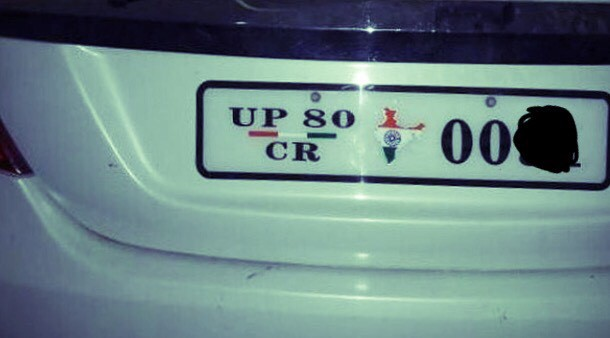numberPlate: (201, 80, 609, 191)
